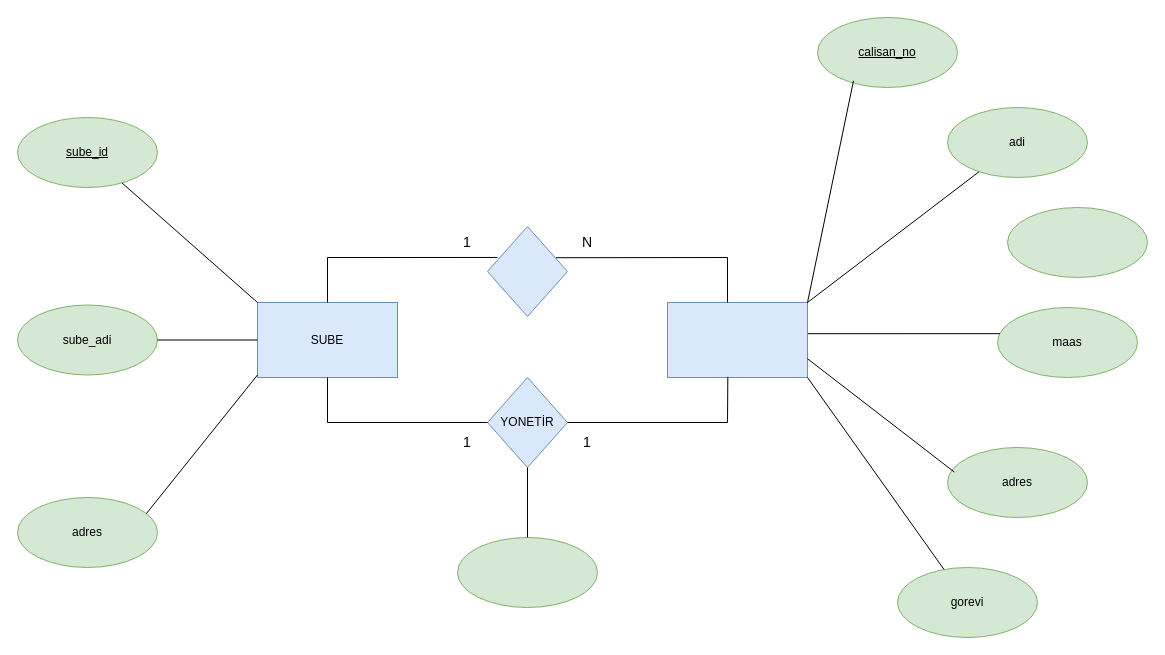
Some shapes in this 1165 by 655 pixel diagram are drawn without their labels. The shapes that lost their labels are listed below. From the top down, each one's centre as x and y in pixels, then its label:
At pixel 1077 242: "soyadi".
At pixel 527 271: "CALİSİR".
At pixel 737 340: "CALİSAN".
At pixel 527 572: "yonetici_id".
